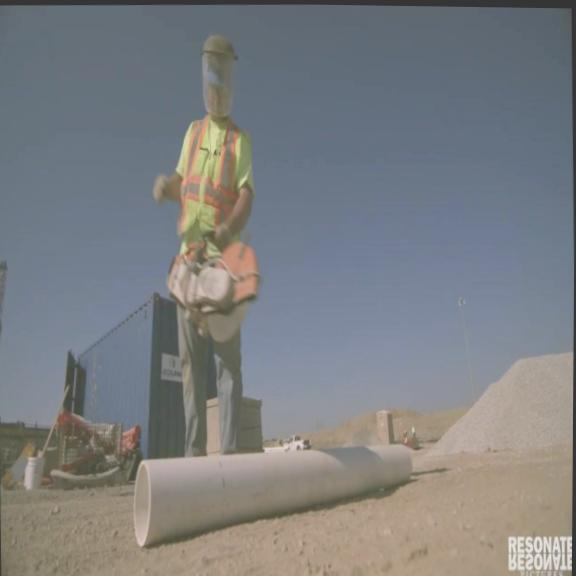safety_vest: (174, 111, 255, 254)
